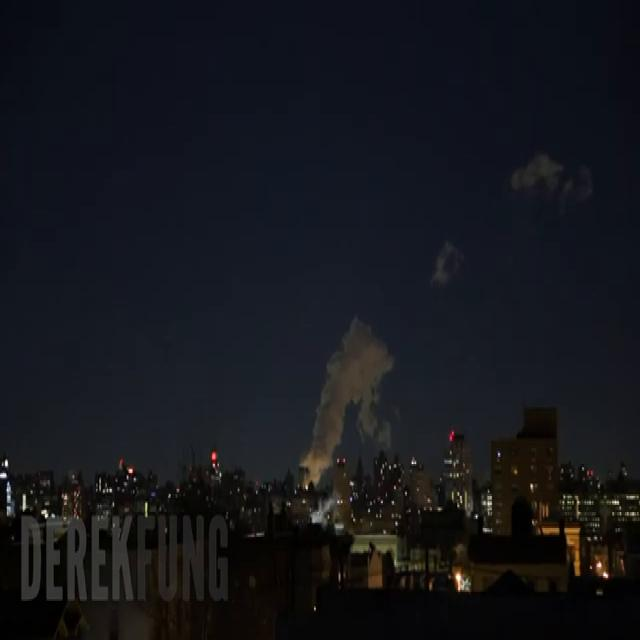smoke: (300, 318, 393, 480)
